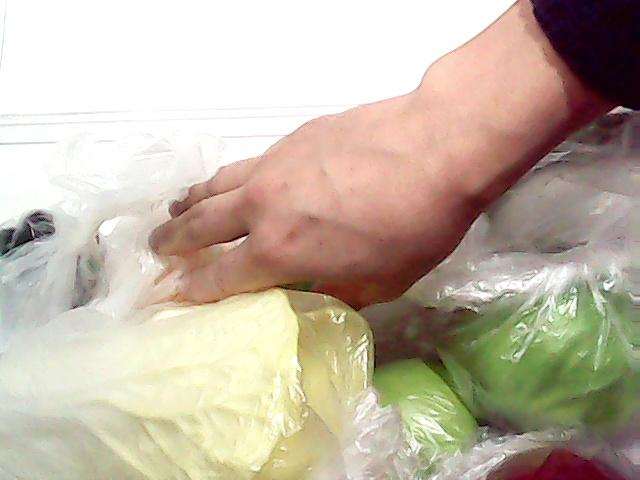apple: (362, 357, 476, 451), (482, 442, 634, 480)
cabbage: (420, 265, 640, 427)
grape: (0, 185, 92, 291)
lemon: (104, 189, 220, 311)
napa cabbage: (0, 284, 360, 480)
pepper: (470, 107, 640, 244)
